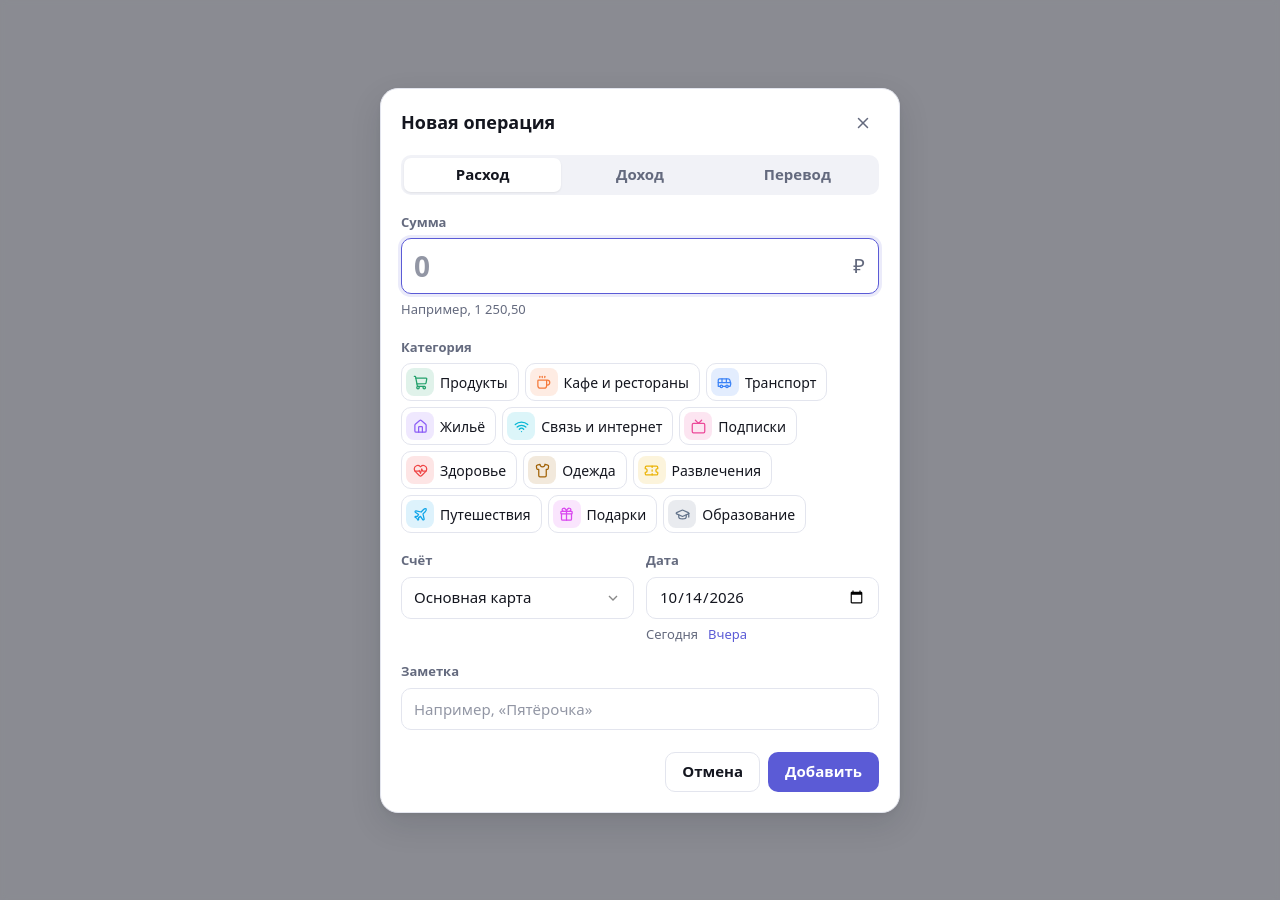
Test: форма операции › перевод: вместо категорий — «Откуда» и «Куда»
The width and height of the screenshot is (1280, 900).
Click the radio button labelled "Перевод" at (797, 174), box x1=719 y1=158 x2=876 y2=192
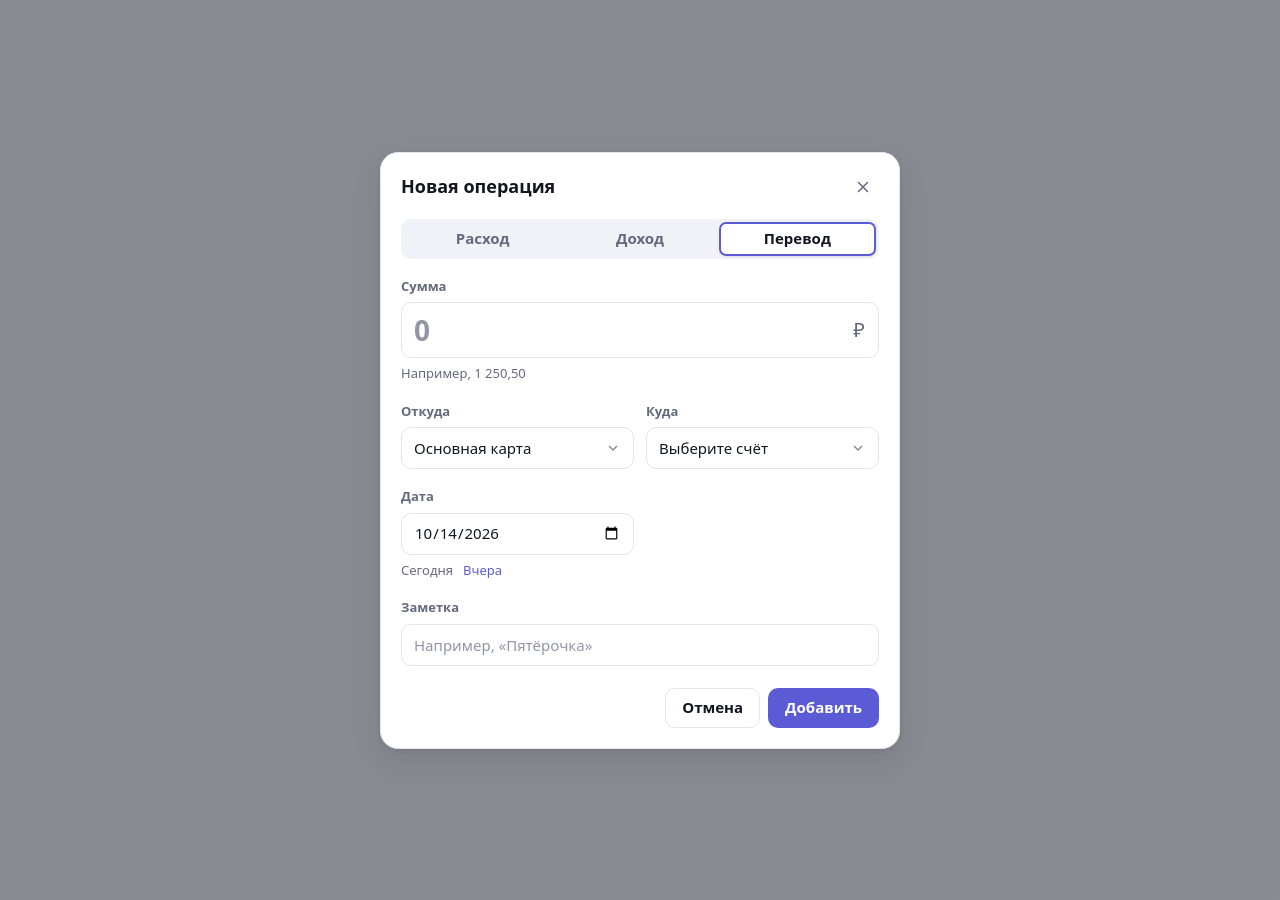
Expected: the text "Категория" is gone
Expected: the dropdown labelled "Куда" is shown, x1=646 y1=427 x2=879 y2=469
